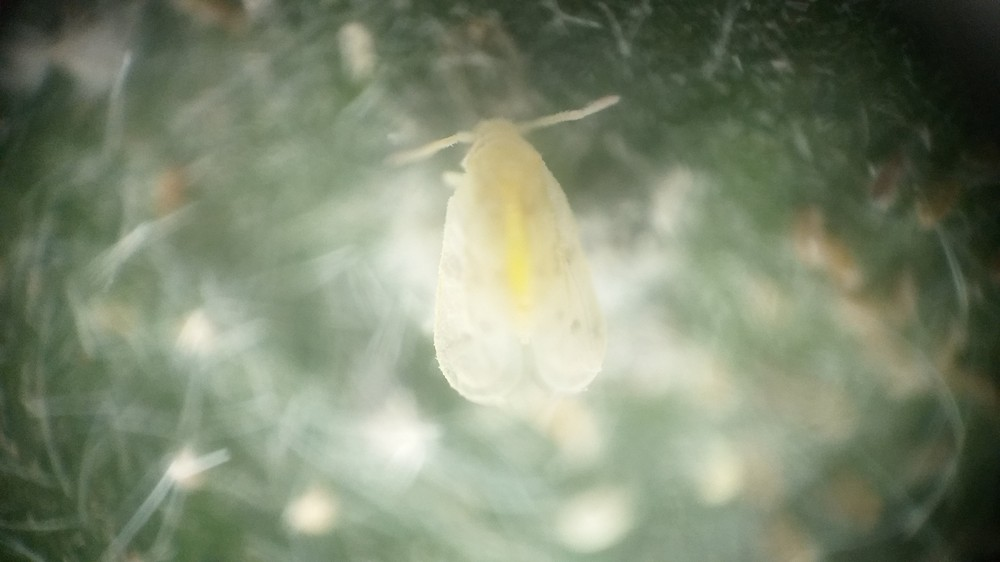Mosca Blanca: (359, 90, 667, 427)
